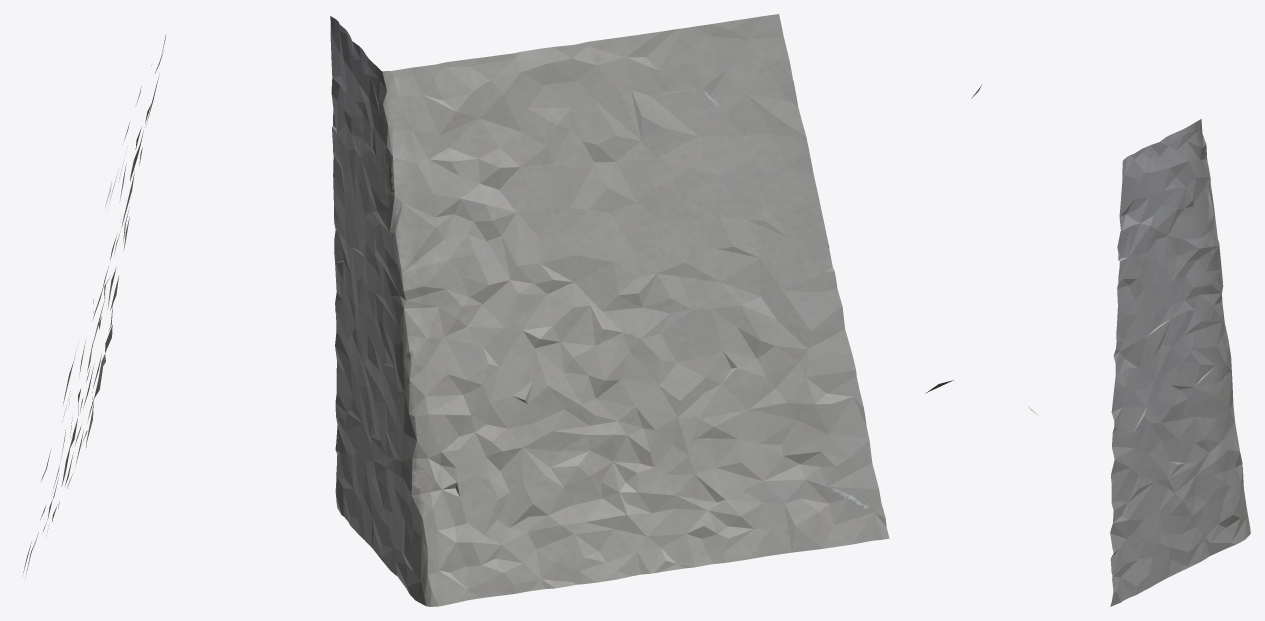
The picture shows the model from 3 angles, left to right: view 1: azimuth 30°, elevation 25°; view 2: azimuth 150°, elevation 25°; view 3: azimuth 270°, elevation 25°; orthographic projection. The views are drawn at different scales.
Size of the model in its own units: 0.7841 by 0.8374 by 0.5652.
3 materials, 3 textured.
